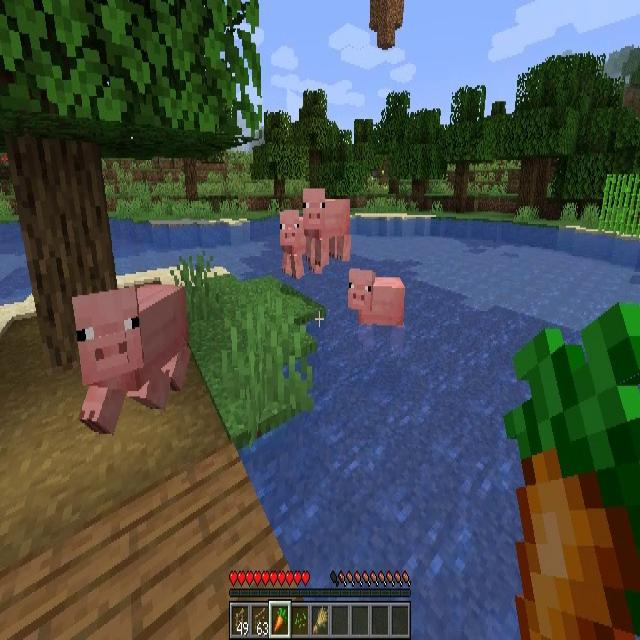pig: (70, 279, 191, 434), (348, 268, 406, 352), (303, 186, 353, 274), (281, 212, 304, 279)
